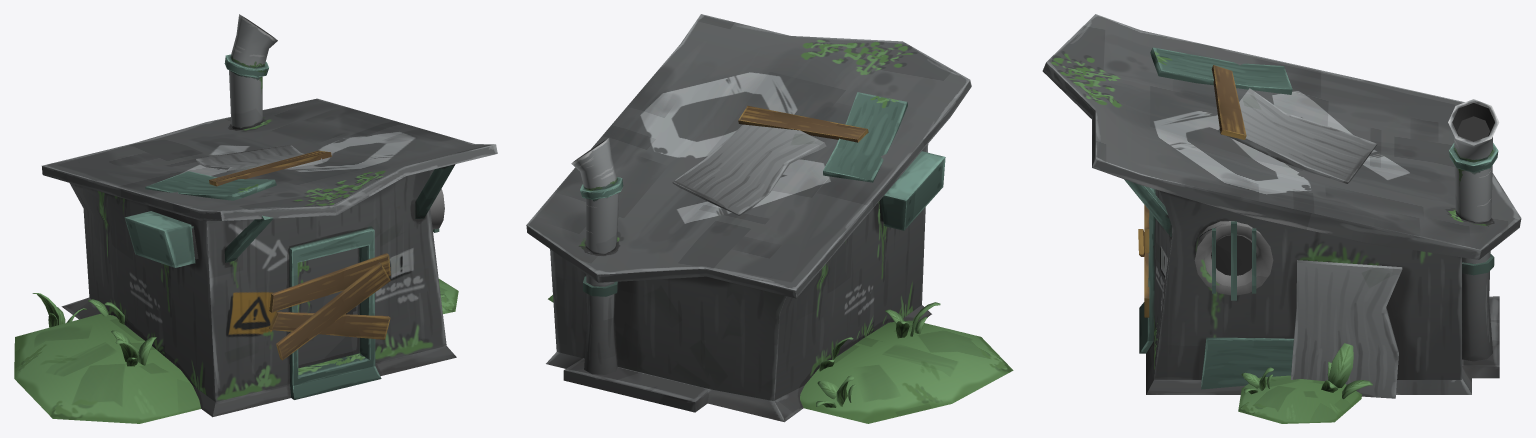
Rendered from Bunker1.dae.
The picture shows the model from 3 angles, left to right: view 1: azimuth 30°, elevation 25°; view 2: azimuth 150°, elevation 25°; view 3: azimuth 270°, elevation 25°; orthographic projection. The views are drawn at different scales.
Visible parts, largest first — view 1: Bunker1; view 2: Bunker1; view 3: Bunker1.
Boxes of the visible parts, left/top/right/bottom form: Bunker1: left=14, top=14, right=497, bottom=423; Bunker1: left=526, top=14, right=1013, bottom=423; Bunker1: left=1042, top=14, right=1521, bottom=423.
Bounding box in the file's own units: 6.33 × 5.65 × 3.45.
